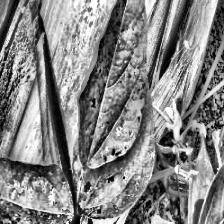Bean Rust: (73, 0, 159, 214), (0, 155, 71, 224)
